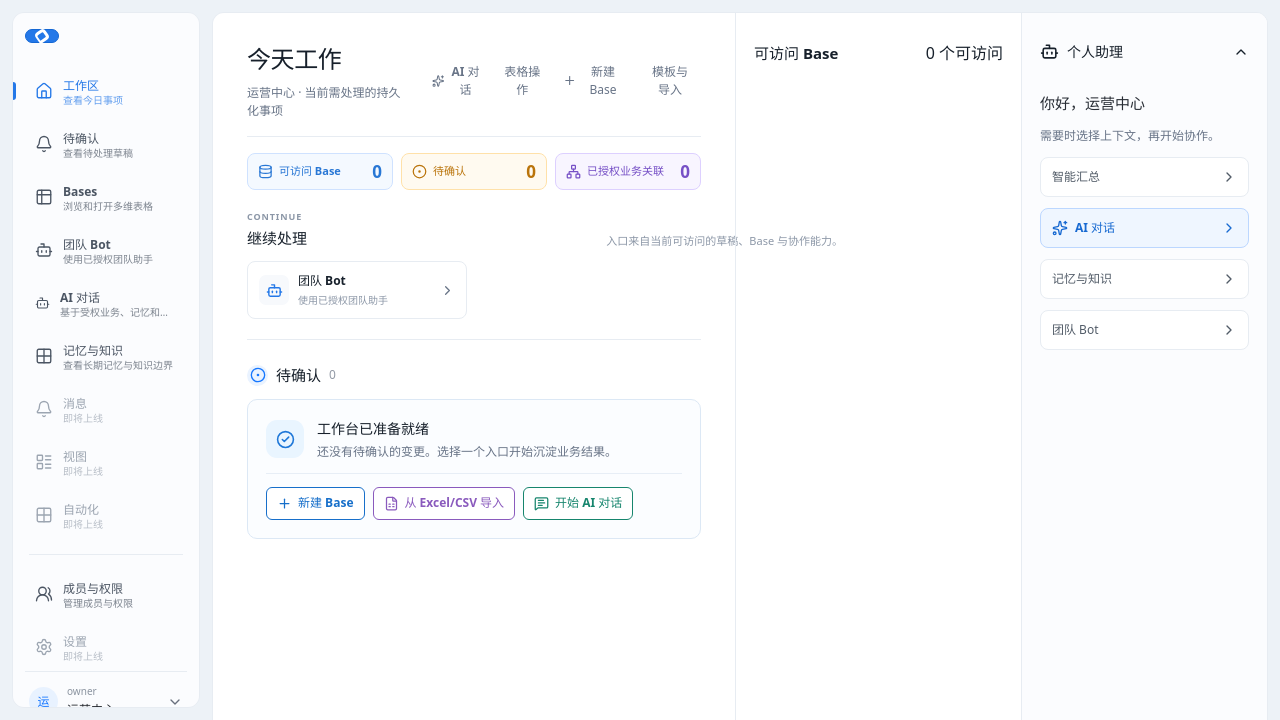
Test: opens Stage08 collaboration from Home and streams only the safe query contract
Click the button "AI 对话" below "需要时选择上下文，再开始协作。" at (1144, 228), box [1040,208,1249,248]
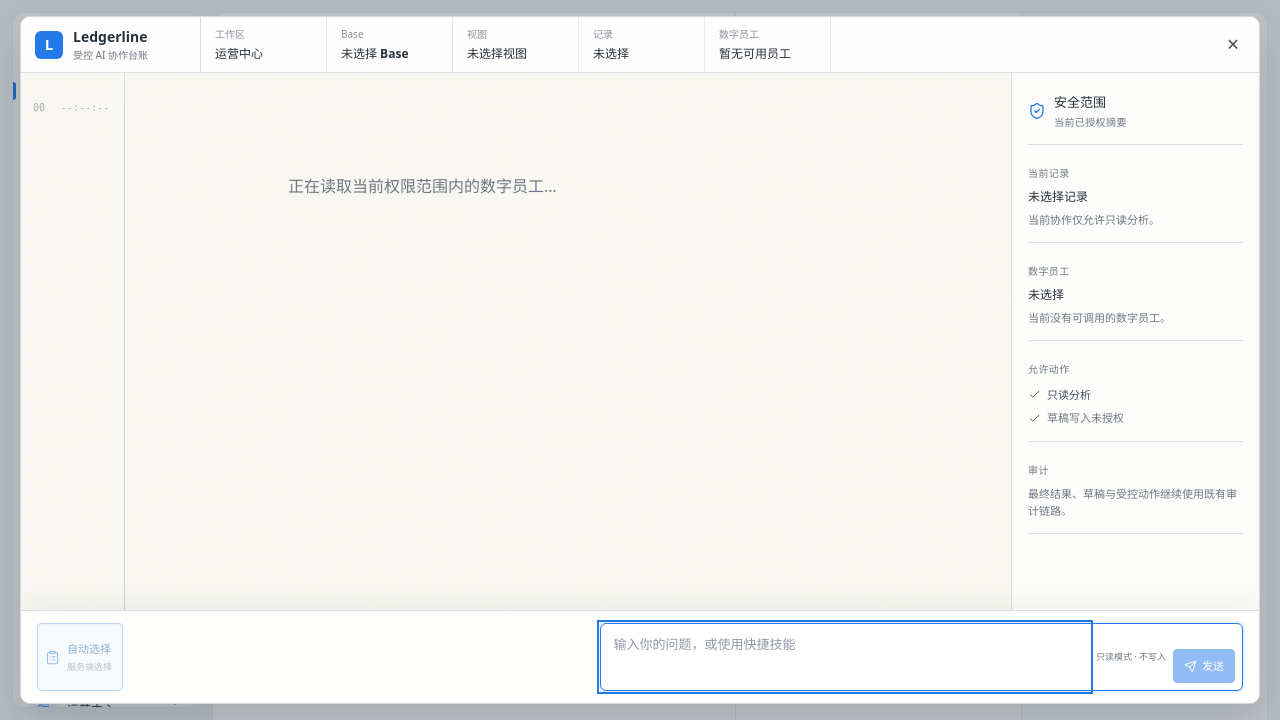
Expected: the dialog named "AI 对话" is shown
Type "客户下一步怎么推进？" into the text box named "协作问题" at (845, 657), box [601,624,1089,690]
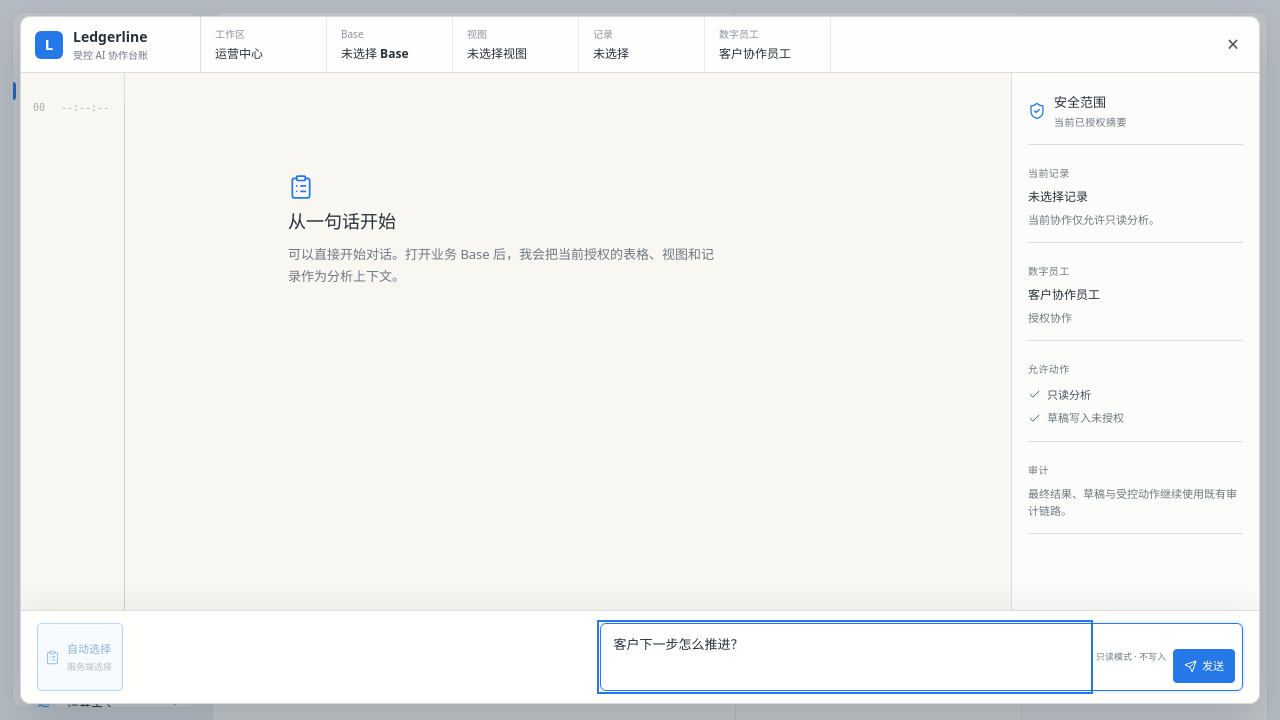
Click the button with aria-label "发送问题" at (1204, 666), box [1173,649,1235,683]
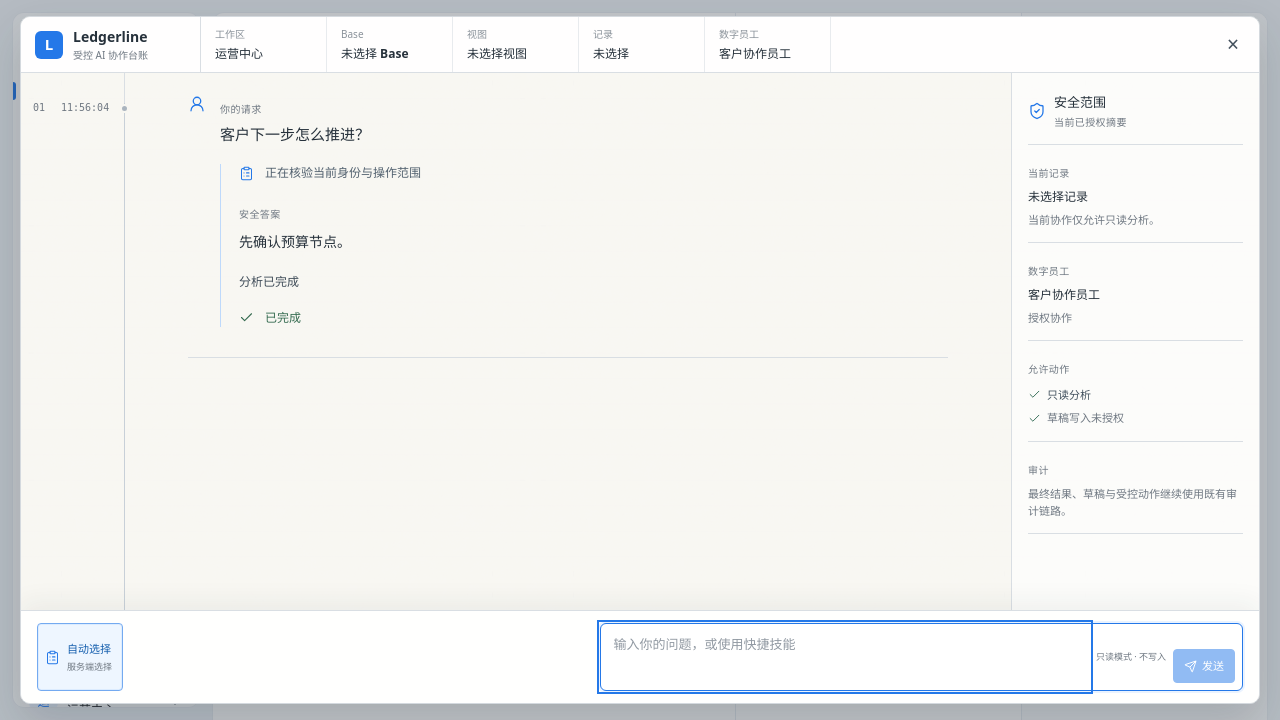
Expected: the text "先确认预算节点。" is shown, [239,232,351,251]
